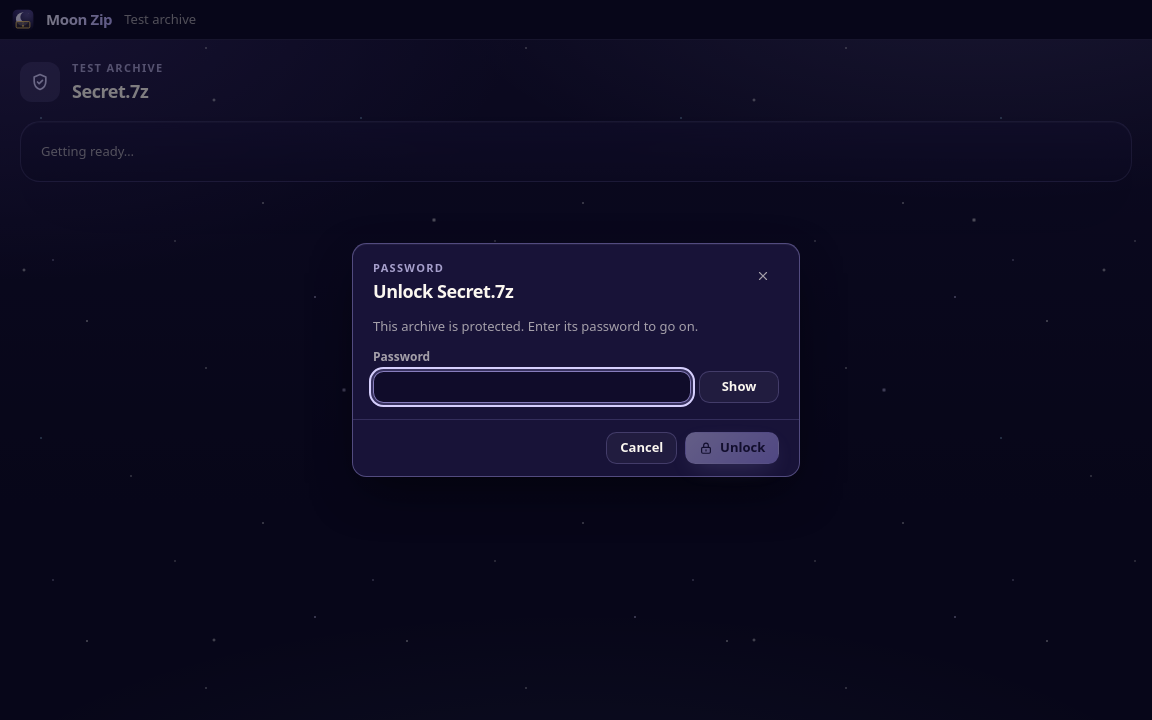
Test: task windows › Test archive asks for the password and reports no errors
Type "moon" into the password field labelled "Password" at [532, 387], box left=373, top=371, right=691, bottom=403
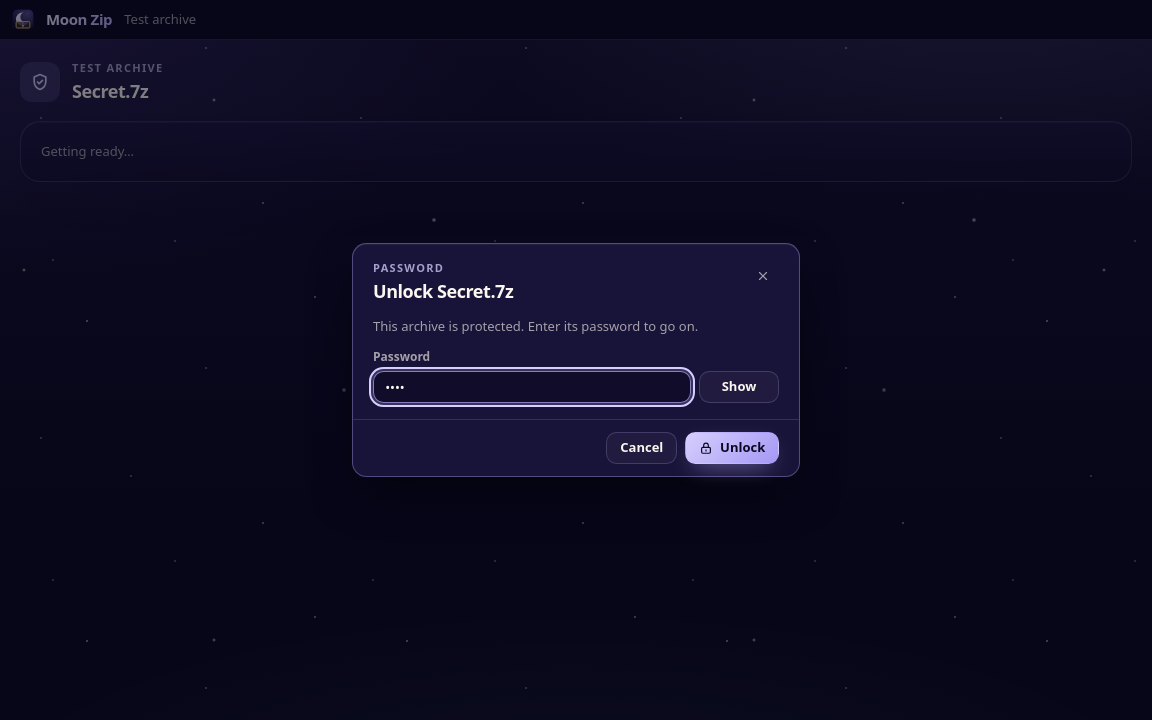
Click the button "Unlock" at [732, 448], box left=685, top=432, right=779, bottom=464
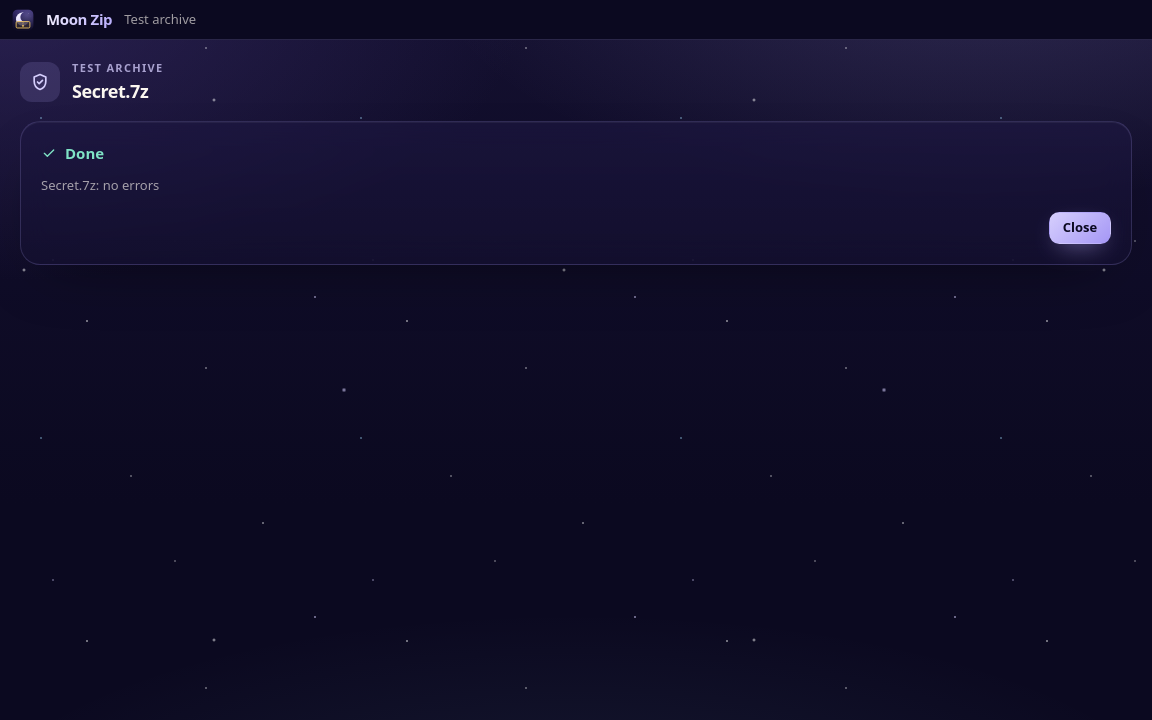
Expected: the list item "Secret.7z: no errors" is shown, left=41, top=176, right=159, bottom=194
